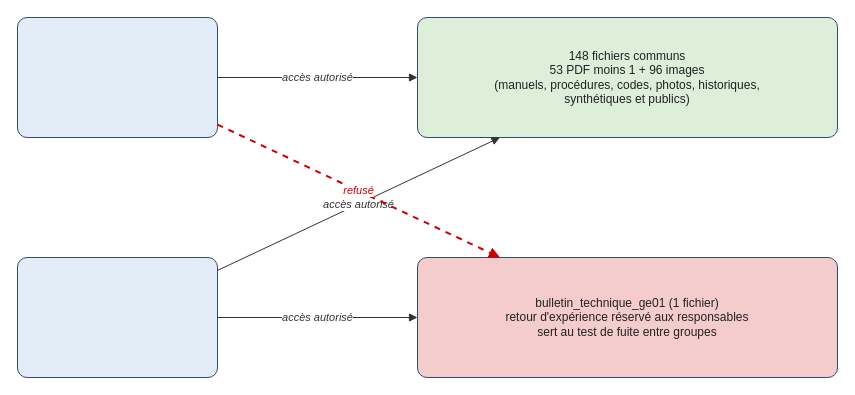
The diagram is 855 pixels wide and 395 high, and some of its shapes have lost their labels. Here are the shapes that lost their labels. From the top down, the centre of each, then its label:
[117,77]: Groupe techniciens_energie tech_01, tech_02 (utilisateurs fictifs)
[117,317]: Groupe responsables resp_01 (utilisateur fictif)
